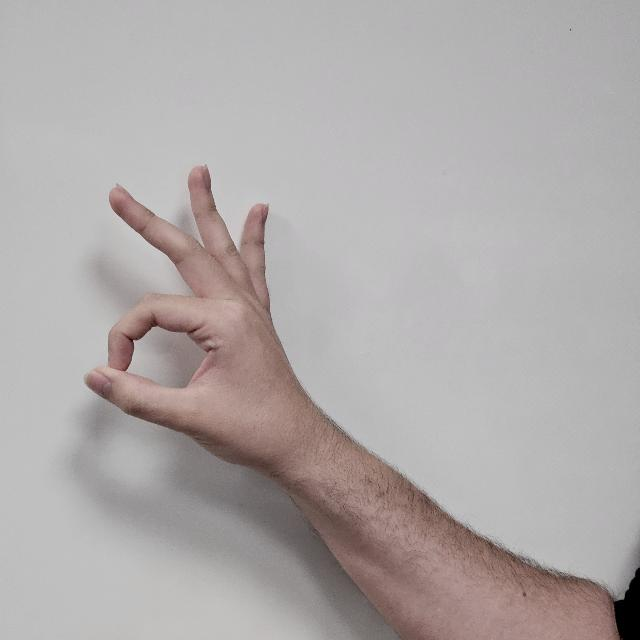Bolinha: (75, 162, 315, 482)
